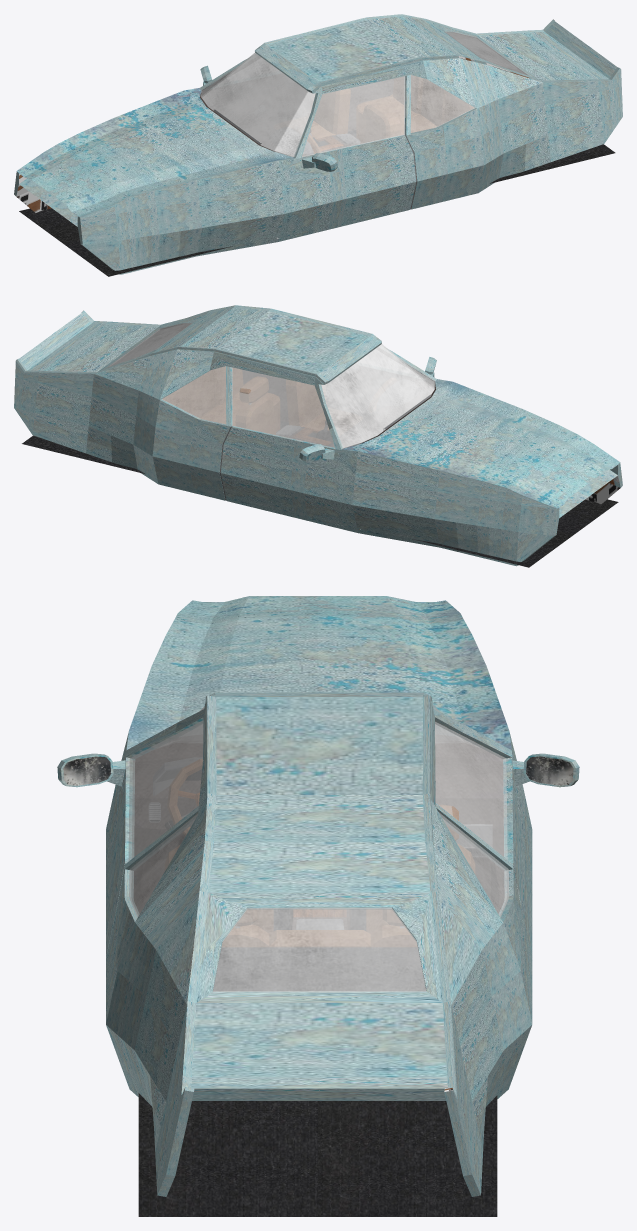
The model's file is car.fbx.
The picture shows the model from 3 angles, top to bottom: view 1: azimuth 30°, elevation 25°; view 2: azimuth 150°, elevation 25°; view 3: azimuth 270°, elevation 25°; orthographic projection. The views are drawn at different scales.
Visible parts, largest first — view 1: shell, glassWindshield, glassLeftFront, glassLeftBack, seatFront, glassBack; view 2: shell, glassRight, glassWindshield, seatFront, glassBack; view 3: shell, glassBack, glassRight, glassLeftFront, glassLeftBack, wheel.
Part boxes in pixels (x1,y1,x2,y2): shell: (14, 14, 622, 276); glassWindshield: (201, 53, 315, 157); glassLeftFront: (302, 76, 405, 157); glassLeftBack: (410, 75, 474, 133); seatFront: (360, 103, 400, 143); glassBack: (444, 31, 529, 75); shell: (14, 305, 622, 567); glassRight: (161, 366, 334, 448); glassWindshield: (321, 344, 435, 448); seatFront: (286, 380, 328, 430); glassBack: (107, 323, 192, 367); shell: (57, 596, 579, 1216); glassBack: (213, 908, 426, 992); glassRight: (435, 721, 509, 917); glassLeftFront: (128, 720, 203, 860); glassLeftBack: (129, 813, 197, 917); wheel: (167, 759, 202, 835).
Bounding box in the file's own units: 4450 × 1030 × 1866.
4 materials, 4 textured.
